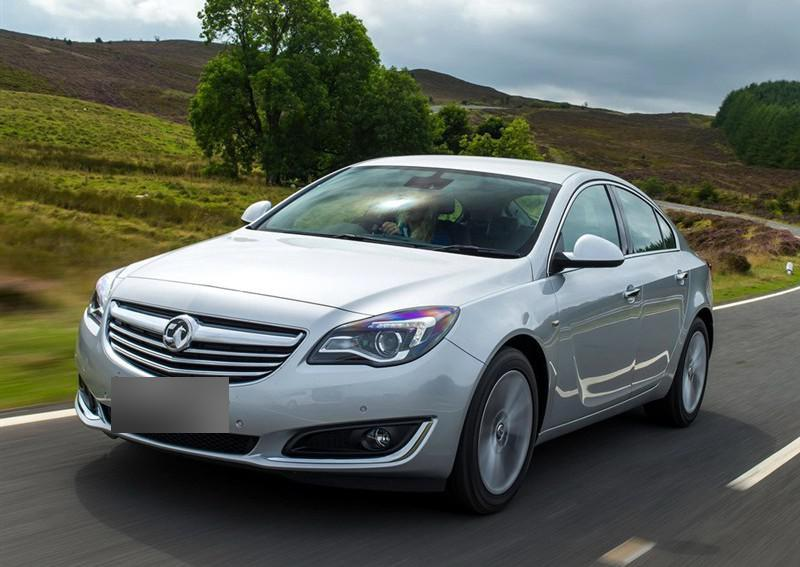Wagon: (74, 154, 716, 517)
